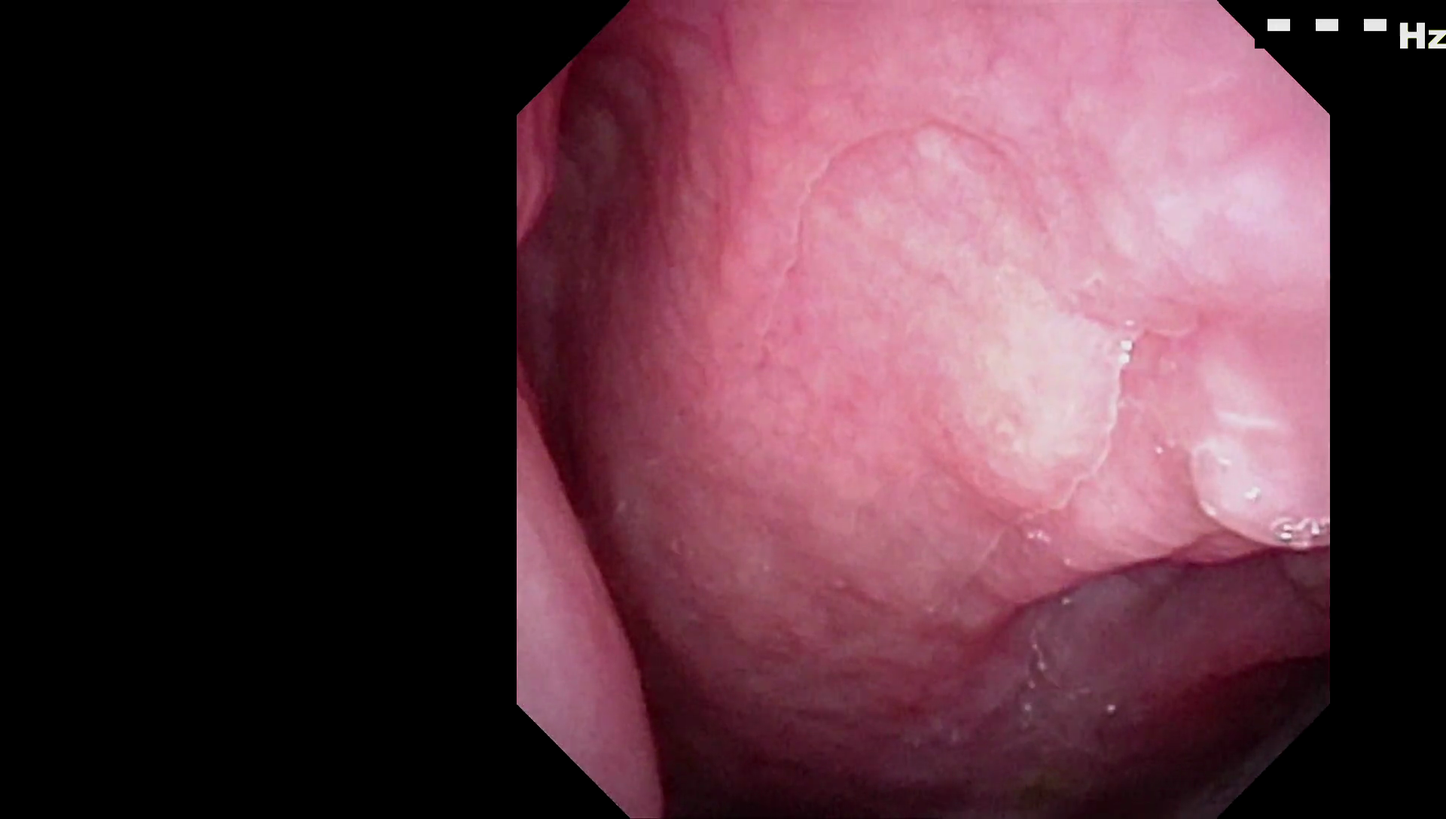close_wall: (715, 93, 1299, 572)
next: (606, 620, 867, 819), (1052, 611, 1340, 763)
